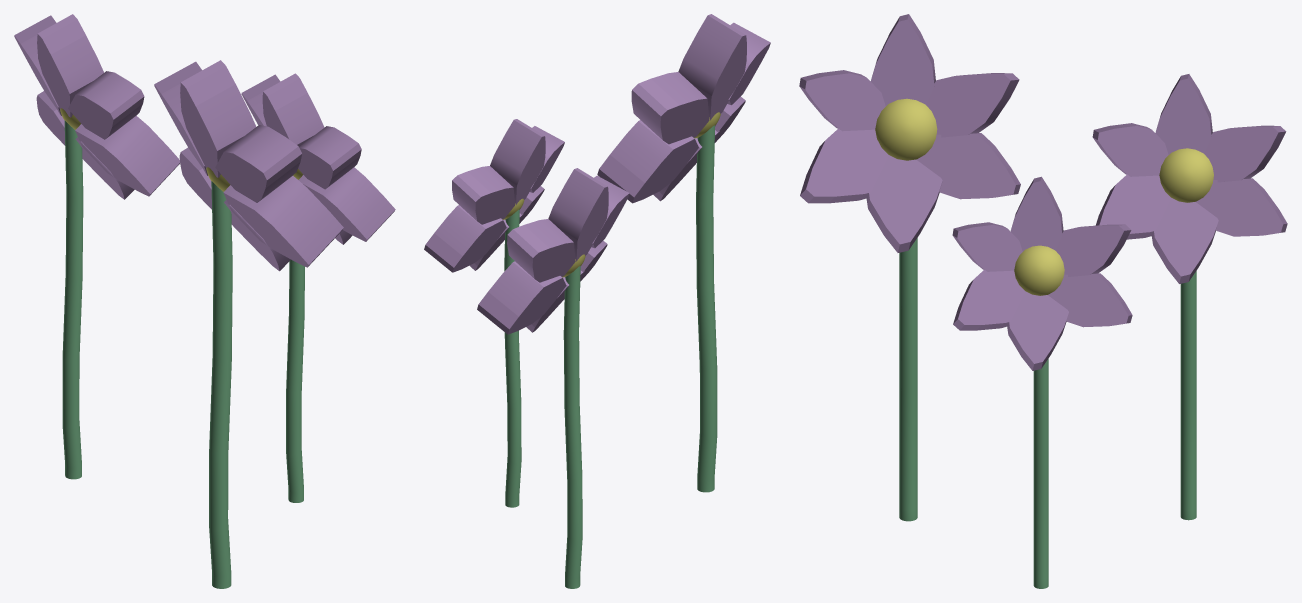
File: Flowers 1.fbx
3 views of the same model, side by side, from view 1: azimuth 30°, elevation 25°; view 2: azimuth 150°, elevation 25°; view 3: azimuth 270°, elevation 25° (orthographic). The views are drawn at different scales.
Visible parts, largest first — view 1: pCube8; view 2: pCube8; view 3: pCube8.
Part boxes in pixels (x1,y1,x2,y2): pCube8: (14,14,395,588); pCube8: (424,14,770,588); pCube8: (799,14,1287,588).
Bounding box in the file's own units: 3.89 × 7.59 × 6.73.
